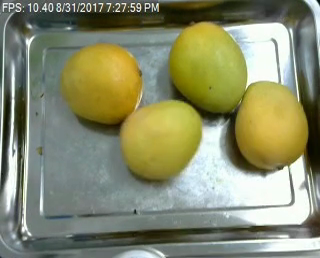Mango: (171, 18, 247, 112), (59, 44, 144, 123), (234, 79, 307, 169), (120, 98, 202, 177)
